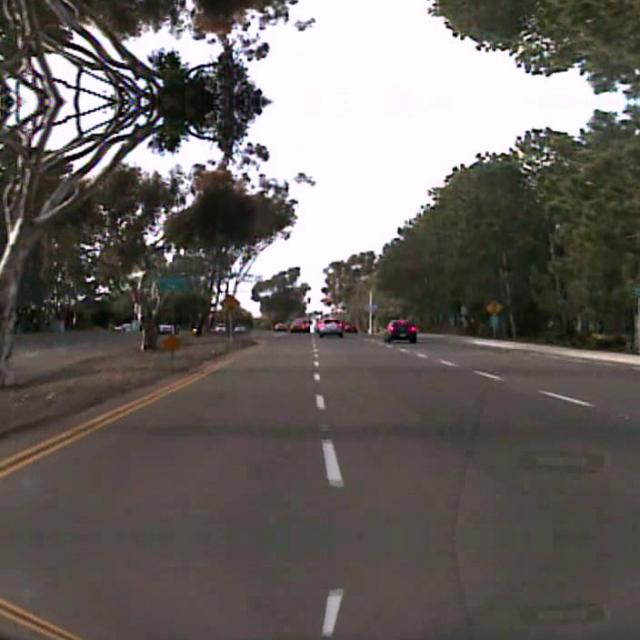signalAhead: (486, 297, 502, 315)
